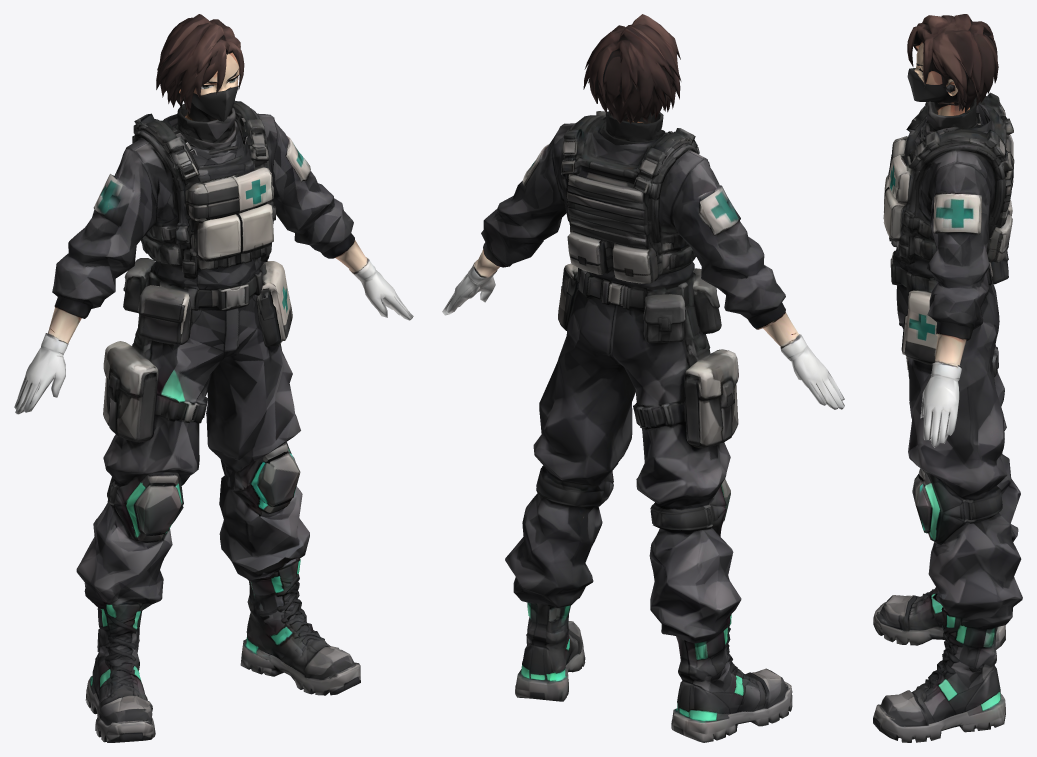
The model's file is serum.glb.
3 renders of one model, left to right at view 1: azimuth 30°, elevation 25°; view 2: azimuth 150°, elevation 25°; view 3: azimuth 270°, elevation 25°, orthographic.
Visible parts, largest first — view 1: tripo_part_0.001, tripo_part_1.001, tripo_part_2.002, serum_Head.001, tripo_part_4.001; view 2: tripo_part_0.001, tripo_part_1.001, tripo_part_2.002, serum_Head.001, tripo_part_4.001; view 3: tripo_part_0.001, tripo_part_4.001, tripo_part_1.001, serum_Head.001.
Boxes of the visible parts, x1,y1,x2,y2 form: tripo_part_0.001: (76,258,360,742); tripo_part_1.001: (132,100,292,350); tripo_part_2.002: (14,138,178,414); serum_Head.001: (156,14,247,156); tripo_part_4.001: (257,113,413,320); tripo_part_0.001: (505,290,792,742); tripo_part_1.001: (558,111,721,334); tripo_part_2.002: (659,149,844,409); serum_Head.001: (583,14,681,145); tripo_part_4.001: (442,123,574,315); tripo_part_0.001: (873,251,1022,742); tripo_part_4.001: (918,150,997,447); tripo_part_1.001: (883,92,1014,365); serum_Head.001: (907,14,998,141).
Size of the model in its own units: 0.6007 by 0.974 by 0.1978.
Materials: 5 (5 with a texture image).
